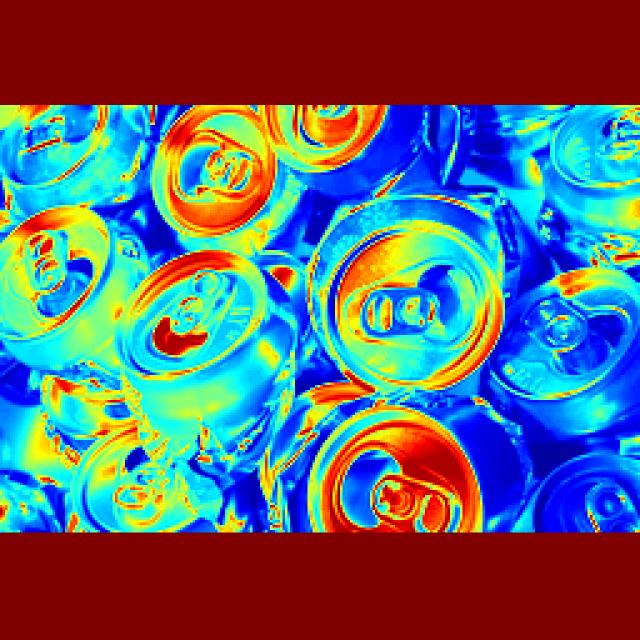Aluminium Food Cans: (29, 111, 603, 523)
